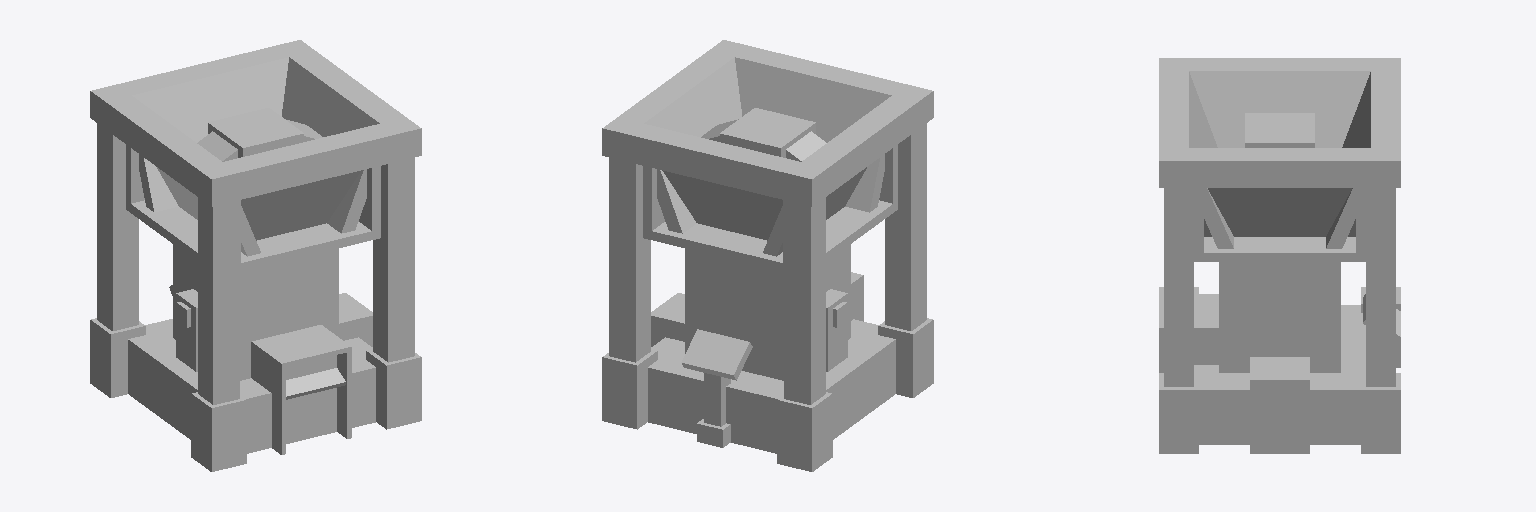
Rendered from grinder.obj.
3 views of the same model, side by side, from view 1: azimuth 30°, elevation 25°; view 2: azimuth 150°, elevation 25°; view 3: azimuth 270°, elevation 25° (orthographic).
Parts seen in each view (by area): view 1: Shape1; view 2: Shape1; view 3: Shape1.
Boxes of the visible parts, x1=… form: Shape1: x1=90, y1=40, x2=421, y2=471; Shape1: x1=602, y1=40, x2=933, y2=471; Shape1: x1=1159, y1=58, x2=1400, y2=453.
Bounding box in the file's own units: 3 × 4 × 3.